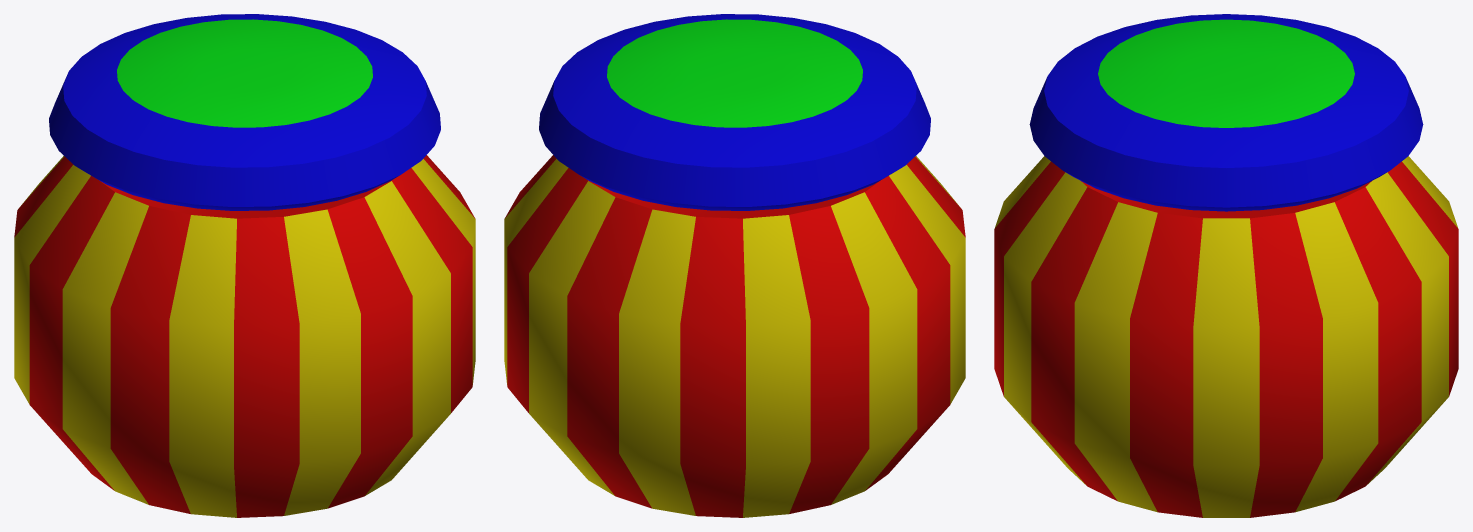
Rendered from Bumper1.0.fbx.
The picture shows the model from 3 angles, left to right: view 1: azimuth 30°, elevation 25°; view 2: azimuth 150°, elevation 25°; view 3: azimuth 270°, elevation 25°; orthographic projection.
Visible parts, largest first — view 1: Bingibongi; view 2: Bingibongi; view 3: Bingibongi.
Part boxes in pixels (box(x1,y1,x2,y2)): Bingibongi: box(14, 14, 475, 517); Bingibongi: box(504, 14, 965, 517); Bingibongi: box(994, 14, 1458, 517).
Size of the model in its own units: 6.73 by 6.52 by 6.8.
